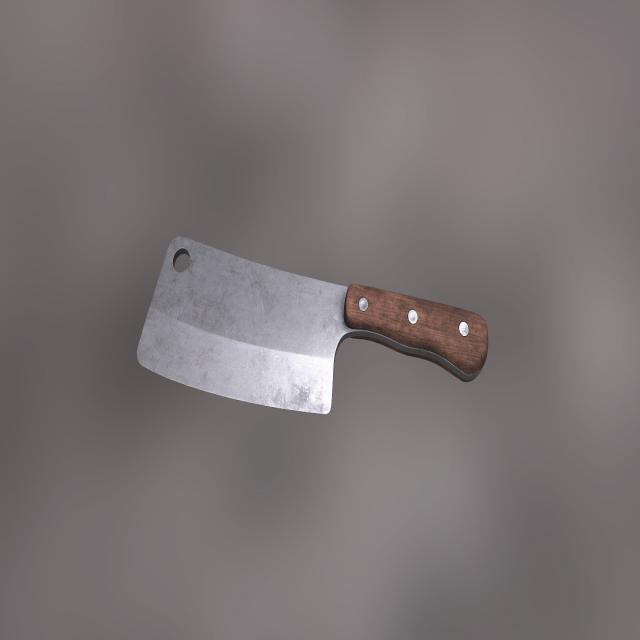cleaver: (140, 236, 488, 417)
